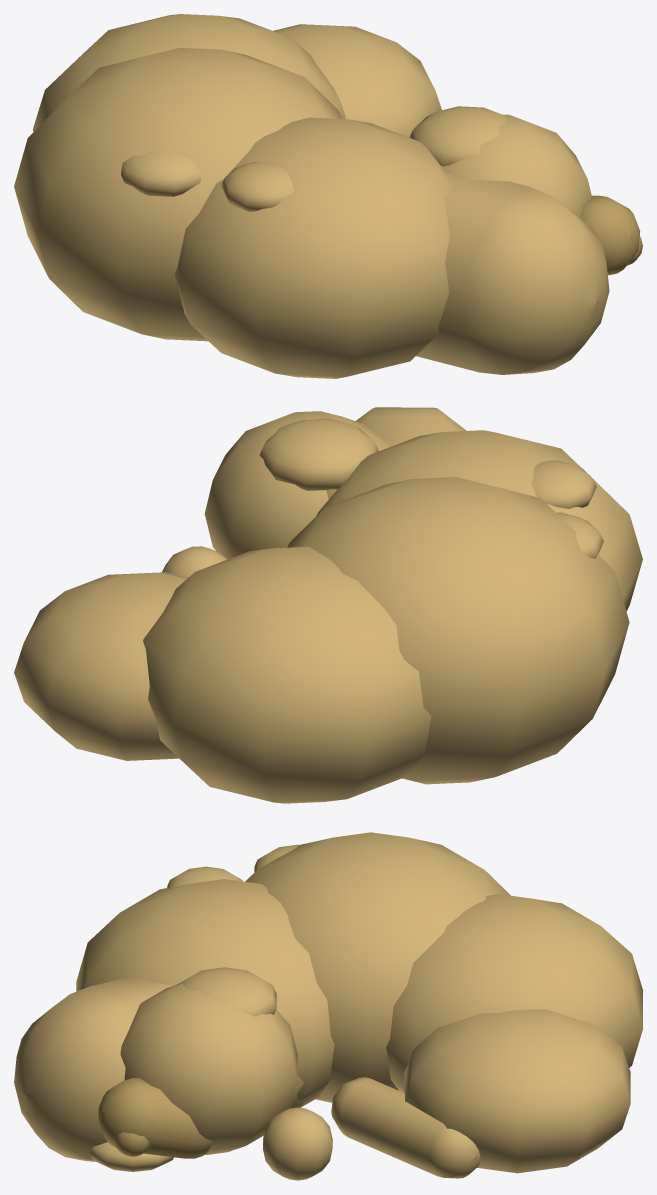
File: gaius-sleeping.glb
3 views of the same model, one above another, from view 1: azimuth 30°, elevation 25°; view 2: azimuth 150°, elevation 25°; view 3: azimuth 270°, elevation 25° (orthographic). The views are drawn at different scales.
Parts seen in each view (by area): view 1: coat, head, snout; view 2: coat, head; view 3: coat, head, snout.
Boxes of the visible parts, x1,y1,x2,y2 form: coat: (14, 14, 609, 378); head: (409, 106, 592, 217); snout: (580, 195, 642, 275); coat: (14, 407, 642, 803); head: (204, 411, 389, 559); coat: (14, 832, 642, 1180); head: (90, 967, 297, 1171); snout: (98, 1078, 213, 1158).
Size of the model in its own units: 0.562 by 0.2886 by 0.6867.
